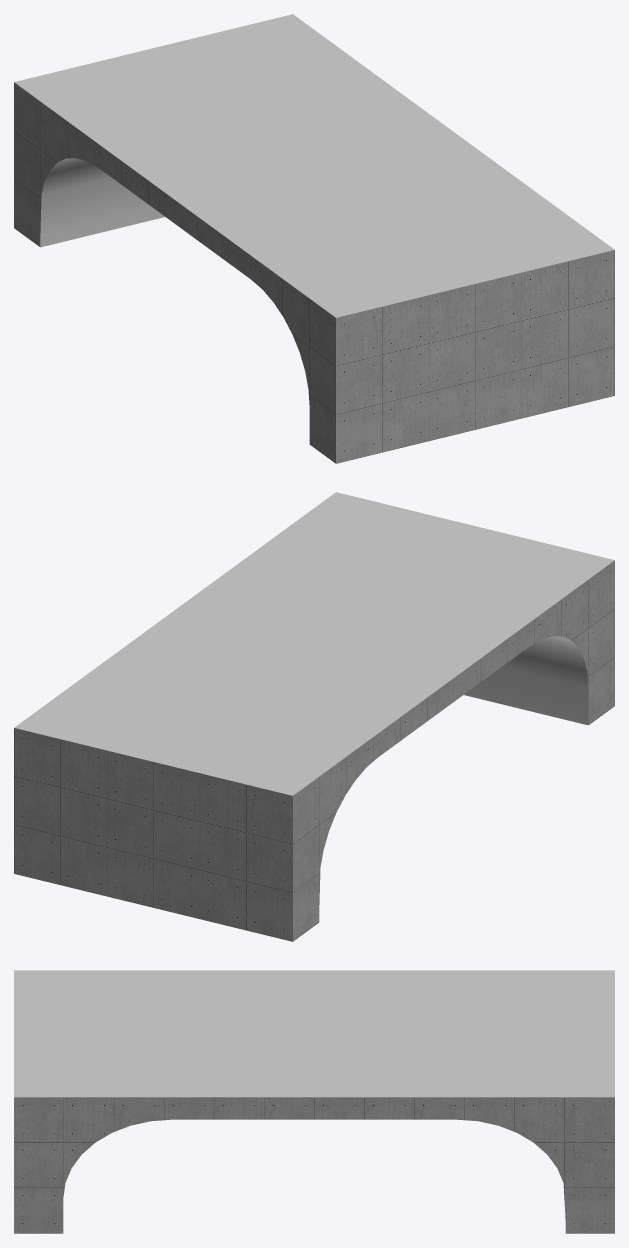
Rendered from BRIDGE.fbx.
The picture shows the model from 3 angles, top to bottom: view 1: azimuth 30°, elevation 25°; view 2: azimuth 150°, elevation 25°; view 3: azimuth 270°, elevation 25°; orthographic projection. The views are drawn at different scales.
Visible parts, largest first — view 1: KOPRU; view 2: KOPRU; view 3: KOPRU.
Boxes of the visible parts, x1=… form: KOPRU: x1=14, y1=14, x2=614, y2=463; KOPRU: x1=14, y1=492, x2=614, y2=941; KOPRU: x1=14, y1=970, x2=614, y2=1233.
Size of the model in its own units: 600 by 300 by 1200.
